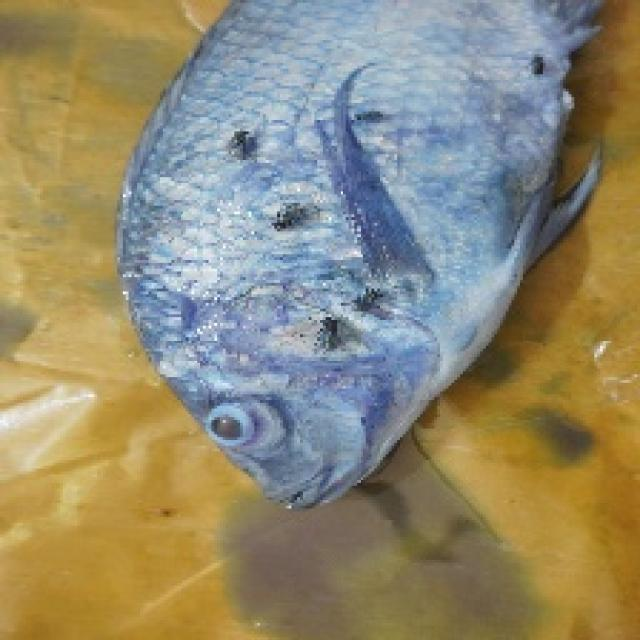Non-Fresh: (102, 0, 600, 537), (195, 395, 301, 467)
